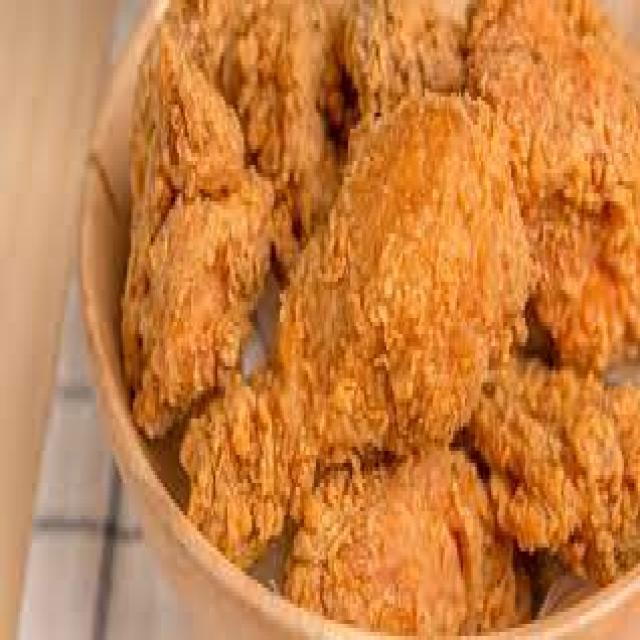Frango: (224, 104, 528, 532), (108, 56, 272, 453), (490, 0, 640, 338), (162, 0, 332, 255), (298, 479, 529, 640), (473, 349, 640, 565), (336, 0, 451, 137)
